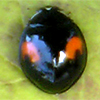Two_spots: (18, 6, 87, 94)
